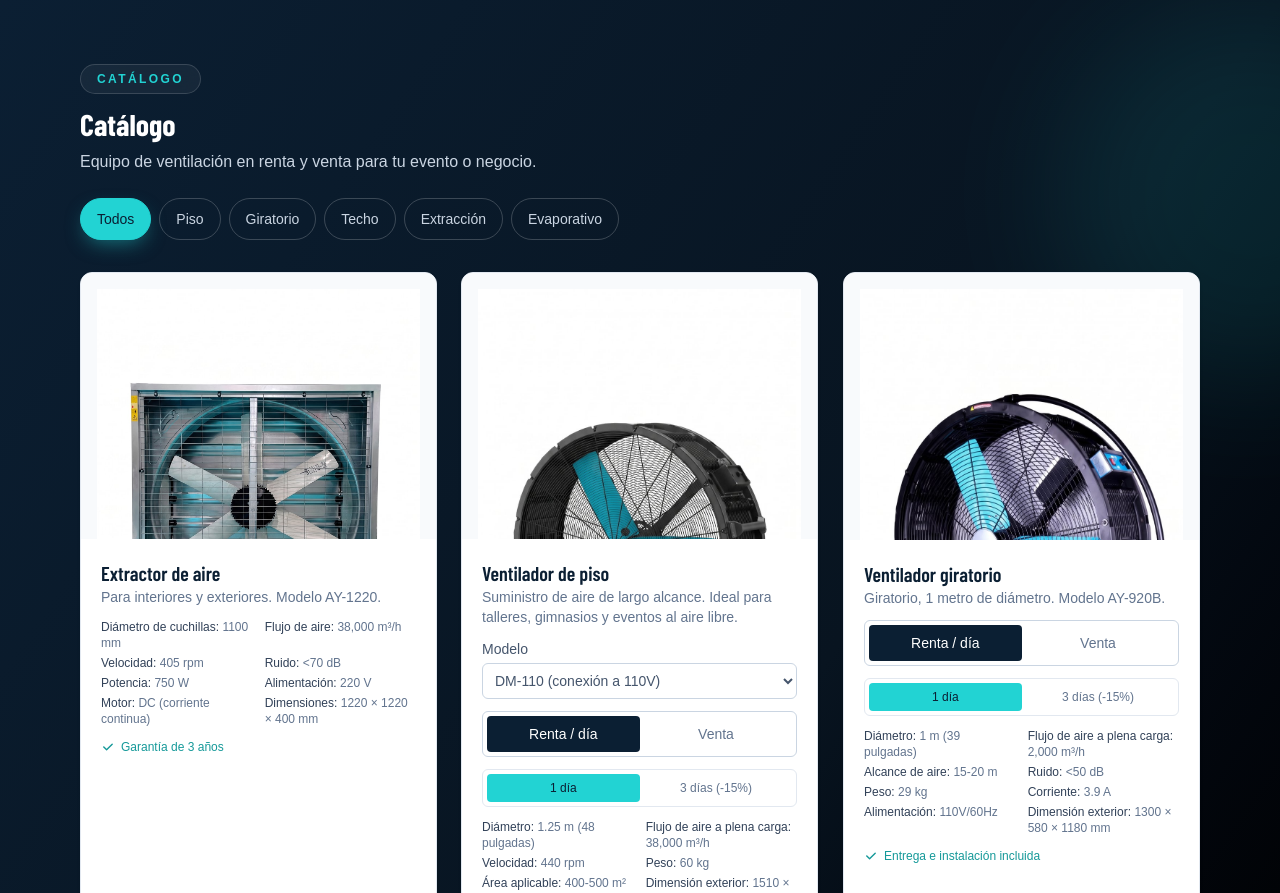
Test: Catalogo › vuelve a mostrar todos al hacer click en Todos
The width and height of the screenshot is (1280, 893).
Click the button "Techo". click: click(360, 219)
box: [324,198,396,240]
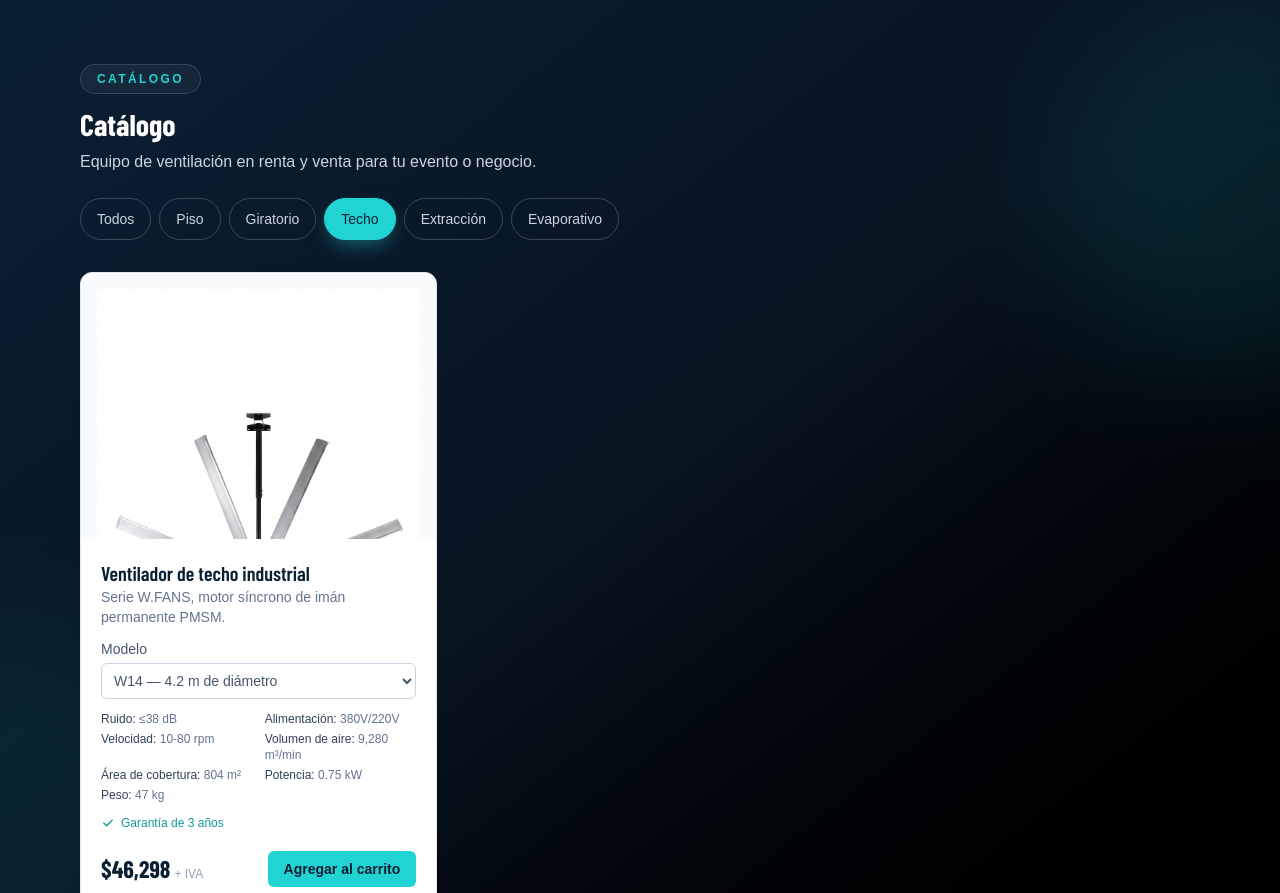
Click the button "Todos". click: click(116, 219)
box: [80,198,151,240]
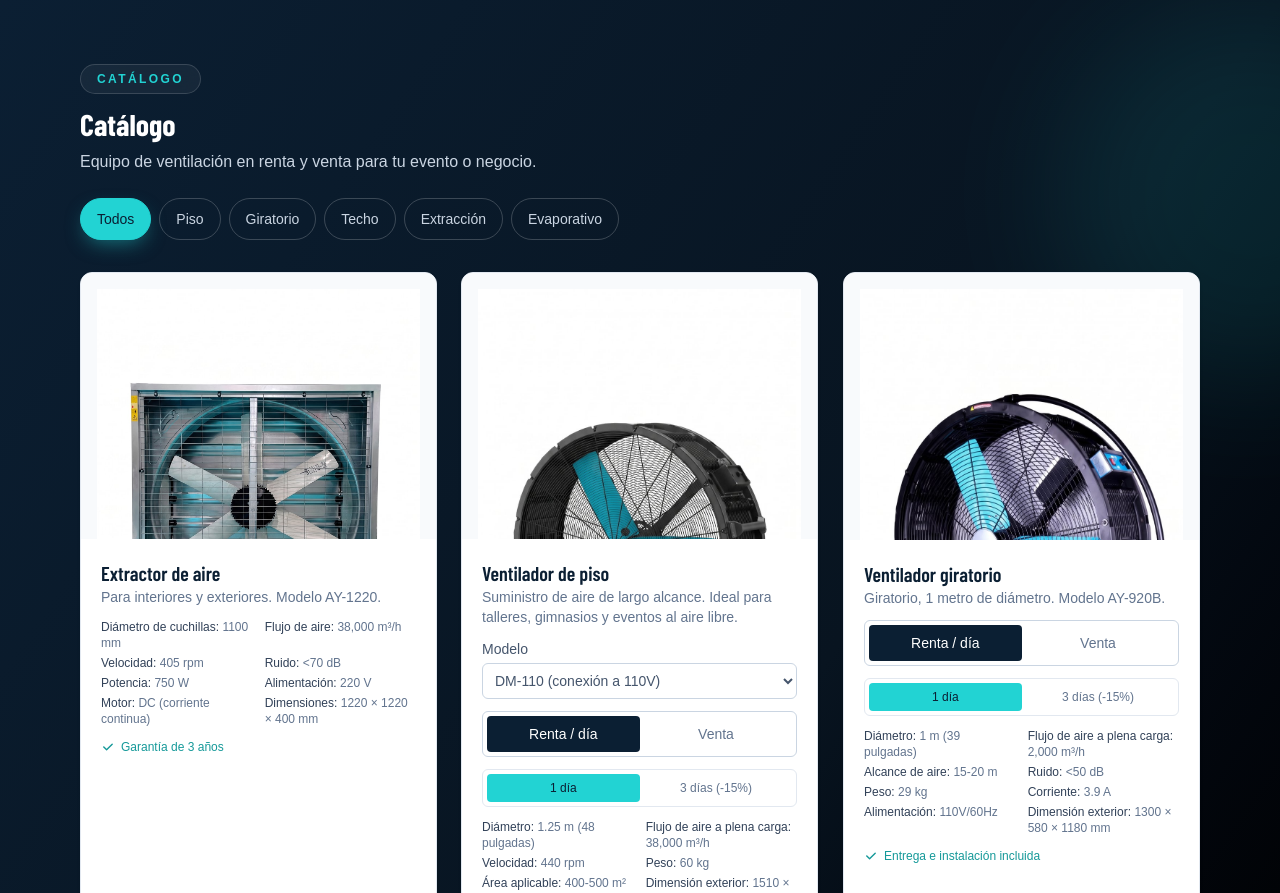
Expected: the heading "Extractor de aire" is shown, [101,562,220,586]
